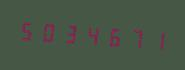five: (17, 14, 37, 46)
four: (80, 19, 100, 50)
one: (143, 23, 163, 54)
seven: (122, 22, 142, 53)
six: (101, 20, 121, 52)
three: (59, 17, 79, 49)
zero: (38, 16, 58, 47)
